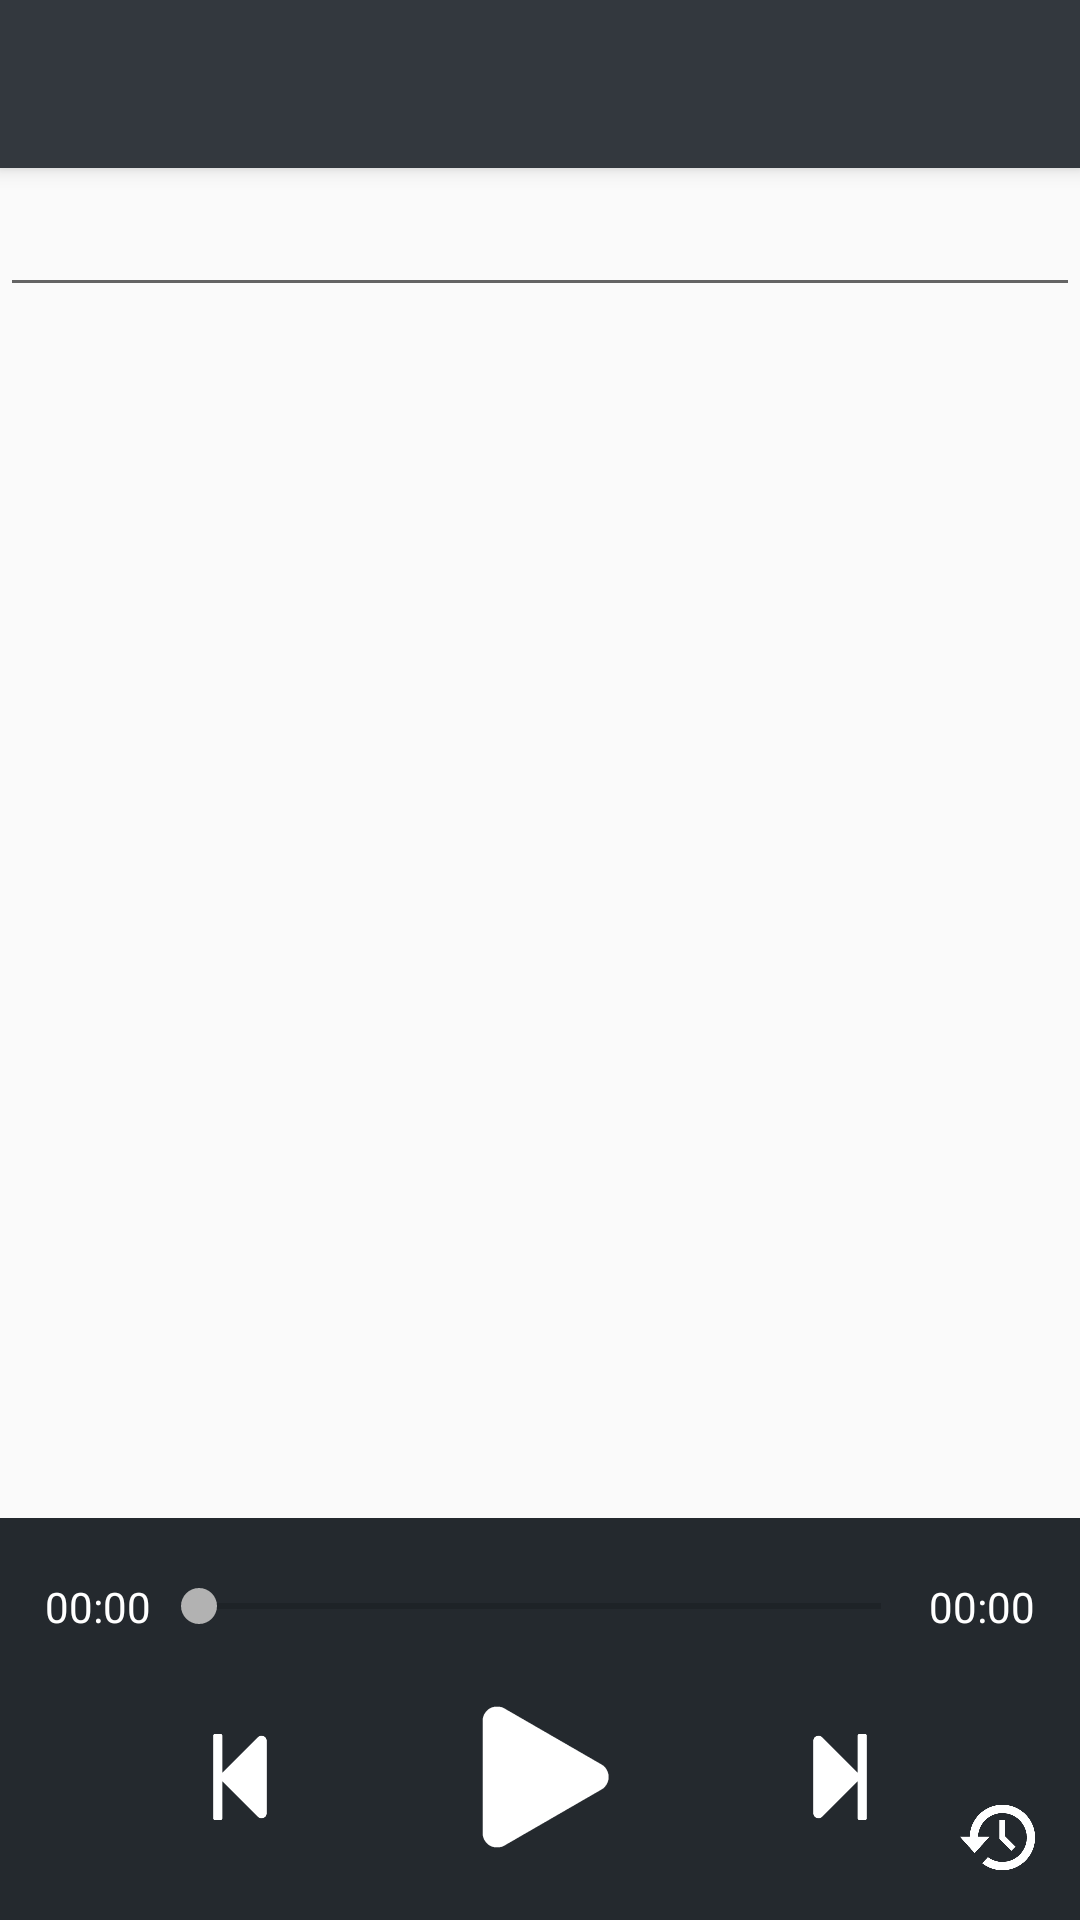

Icon bounding boxes for this 1080×1920 phone screenshot, format (x1, y1, x2, y2):
Next: (813, 1734, 867, 1820)
Play: (482, 1706, 609, 1848)
Previous: (213, 1734, 267, 1820)
Rewind: (960, 1805, 1035, 1870)
